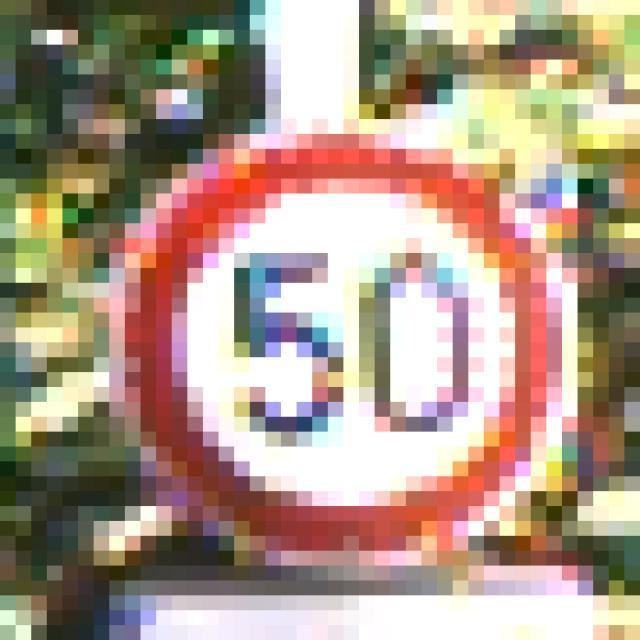Ograniczenie predkosci do 50: (123, 142, 554, 557)
